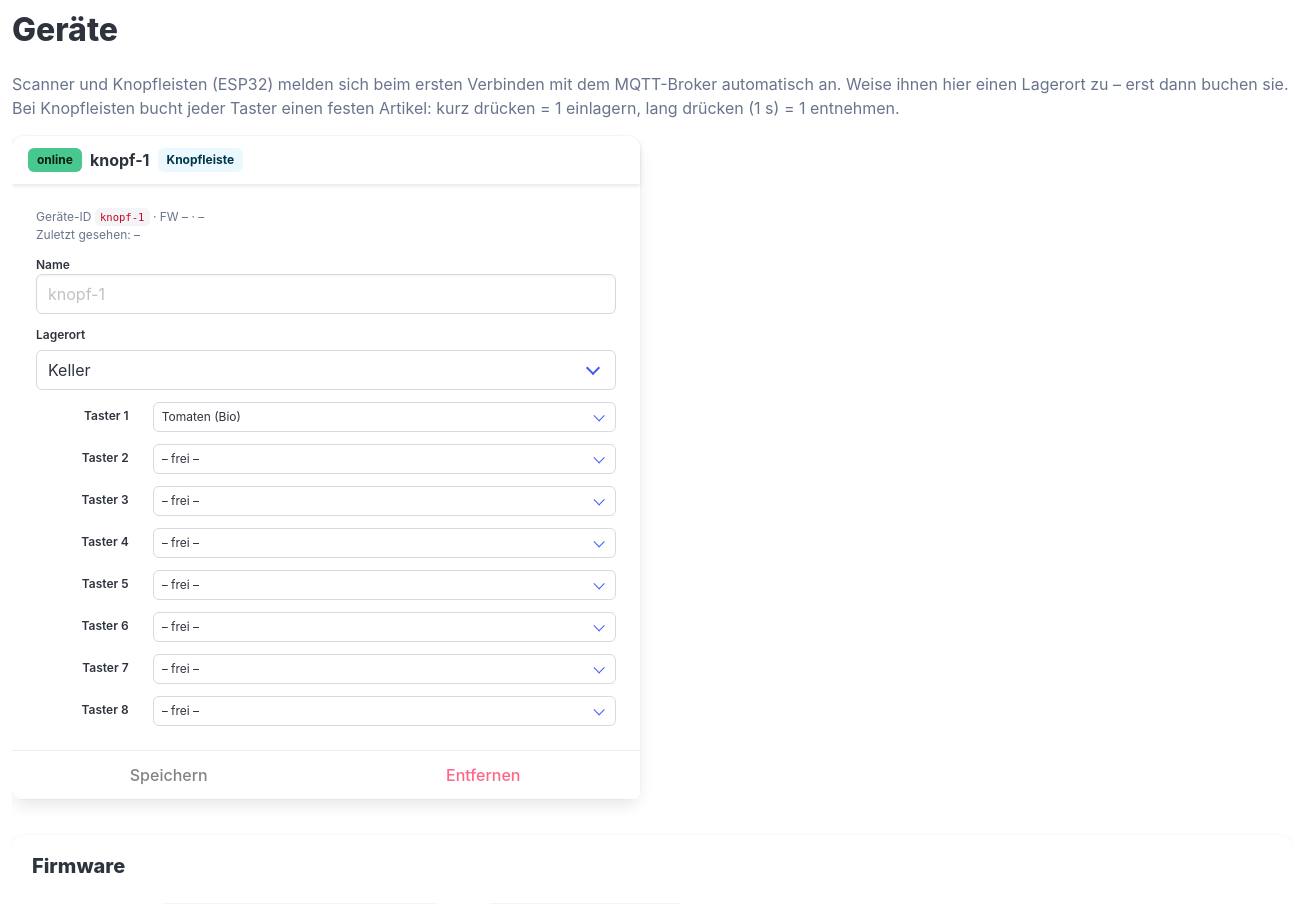
Test case: ScannersPage › assigns articles to the buttons of a button box
Expected: the text "Knopfleiste" is shown, [158, 148, 243, 172]
Expected: the dropdown labelled "Taster 8" shows "– frei –", [153, 696, 616, 726]
Select "Zucchini" in the dropdown labelled "Taster 1" at (384, 417), box [153, 402, 616, 432]
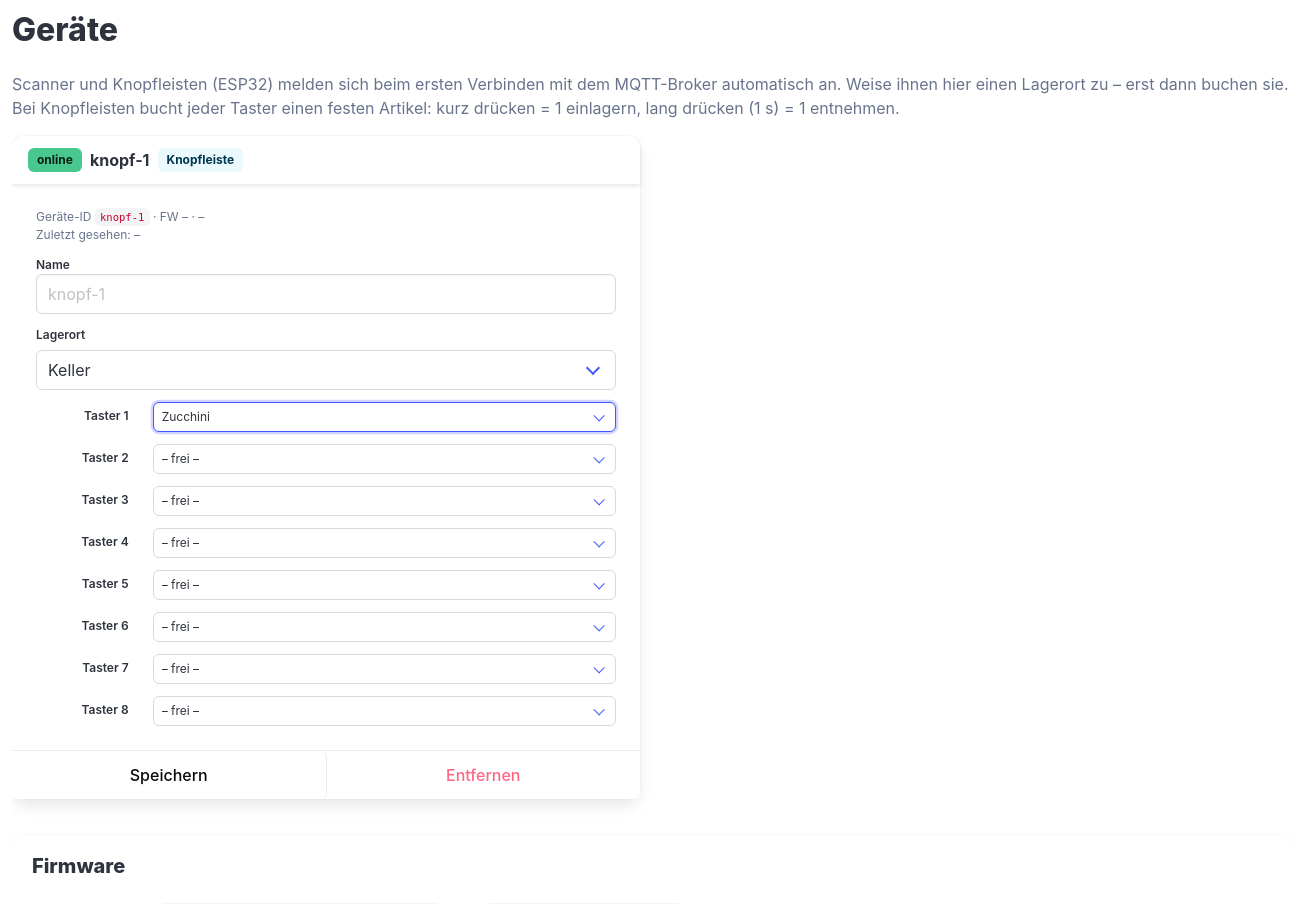
Result: the button "Speichern" is enabled at [12, 751, 326, 799]
Select "Tomaten (Bio)" in the dropdown labelled "Taster 1" at (384, 417), box [153, 402, 616, 432]
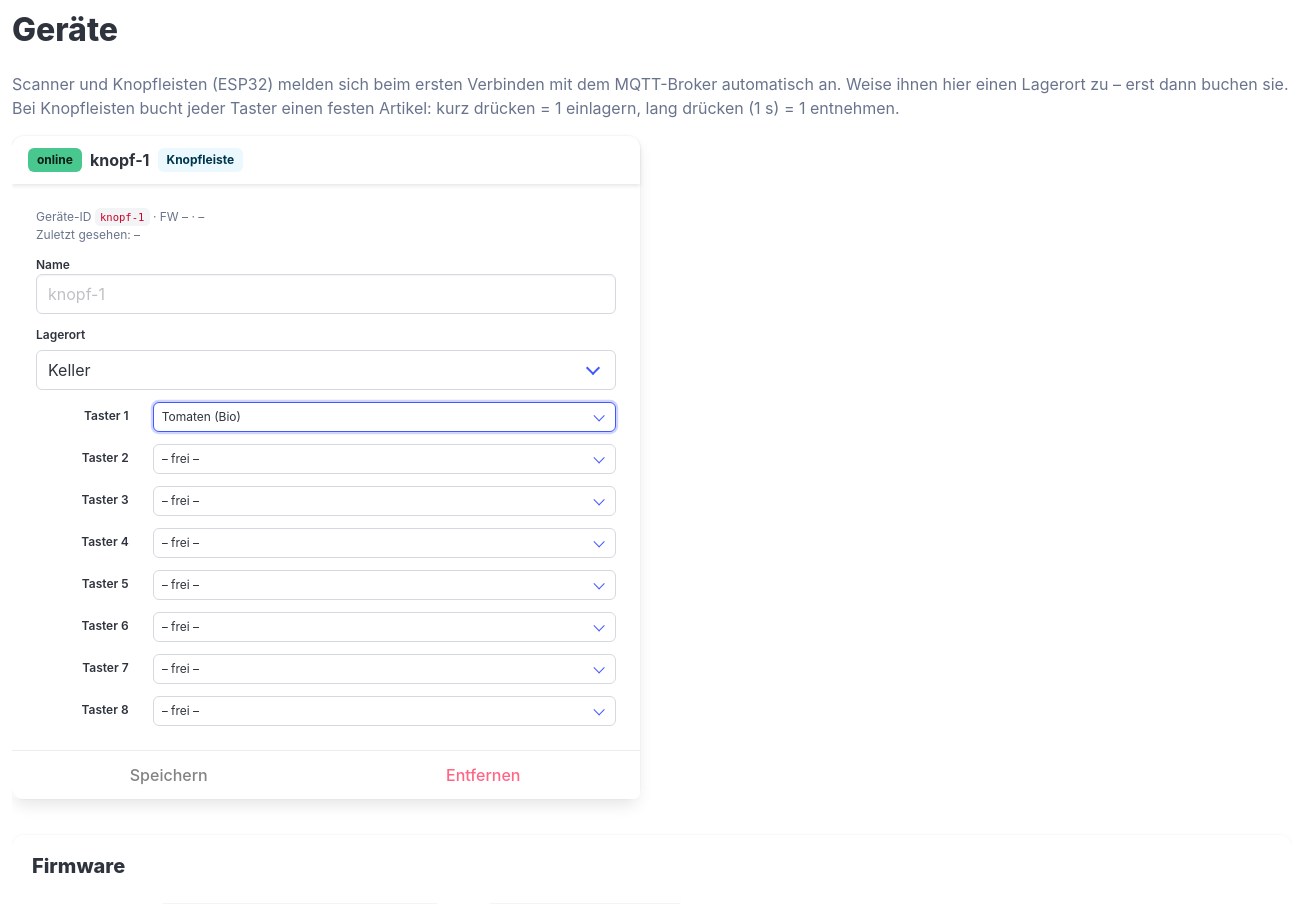
Result: the button "Speichern" is disabled at [12, 751, 326, 799]
Select "Zucchini" in the dropdown labelled "Taster 3" at (384, 501), box [153, 486, 616, 516]
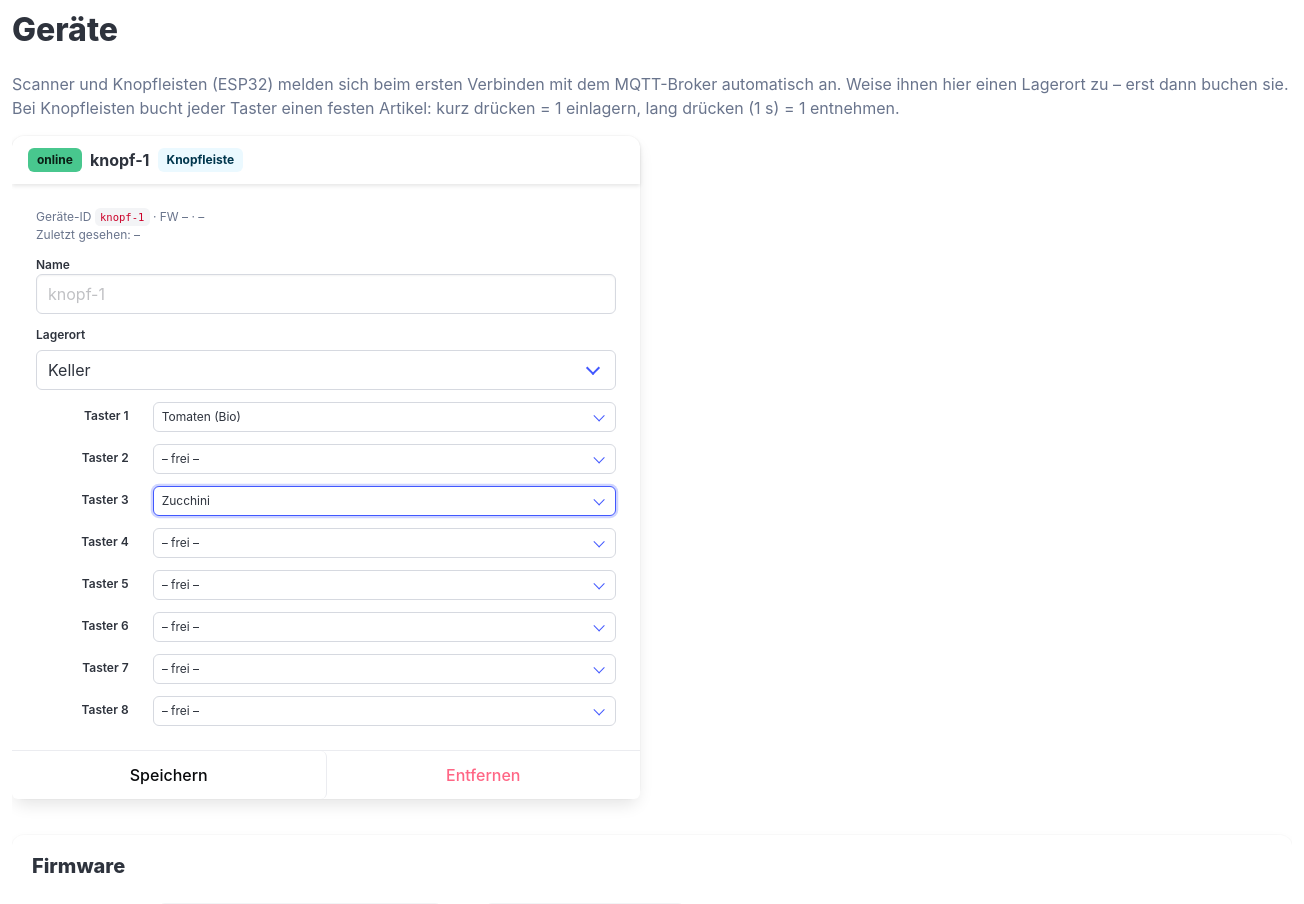
Select "– frei –" in the dropdown labelled "Taster 1" at (384, 417), box [153, 402, 616, 432]
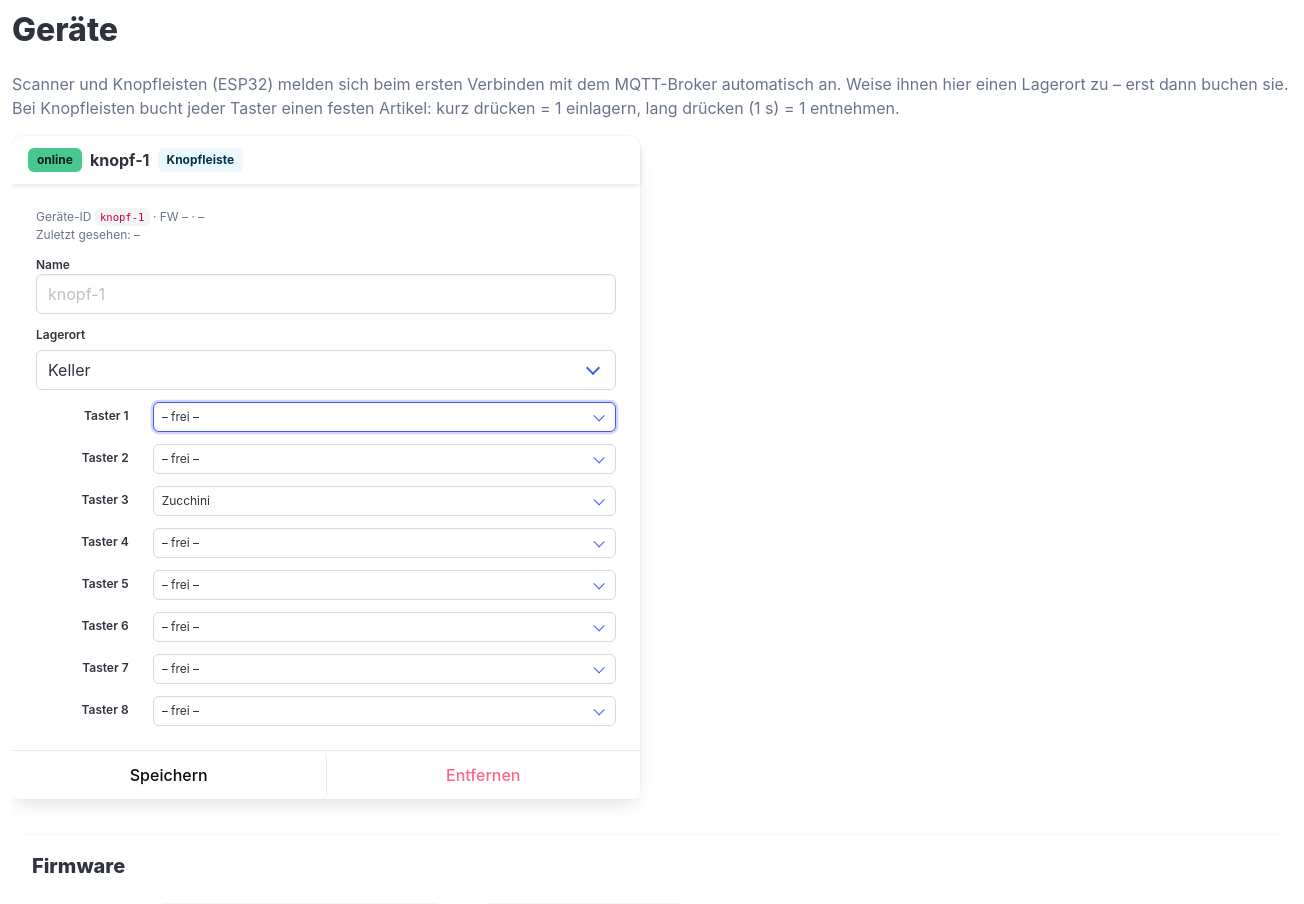
Click the button "Speichern" at (169, 775), box [12, 751, 326, 799]
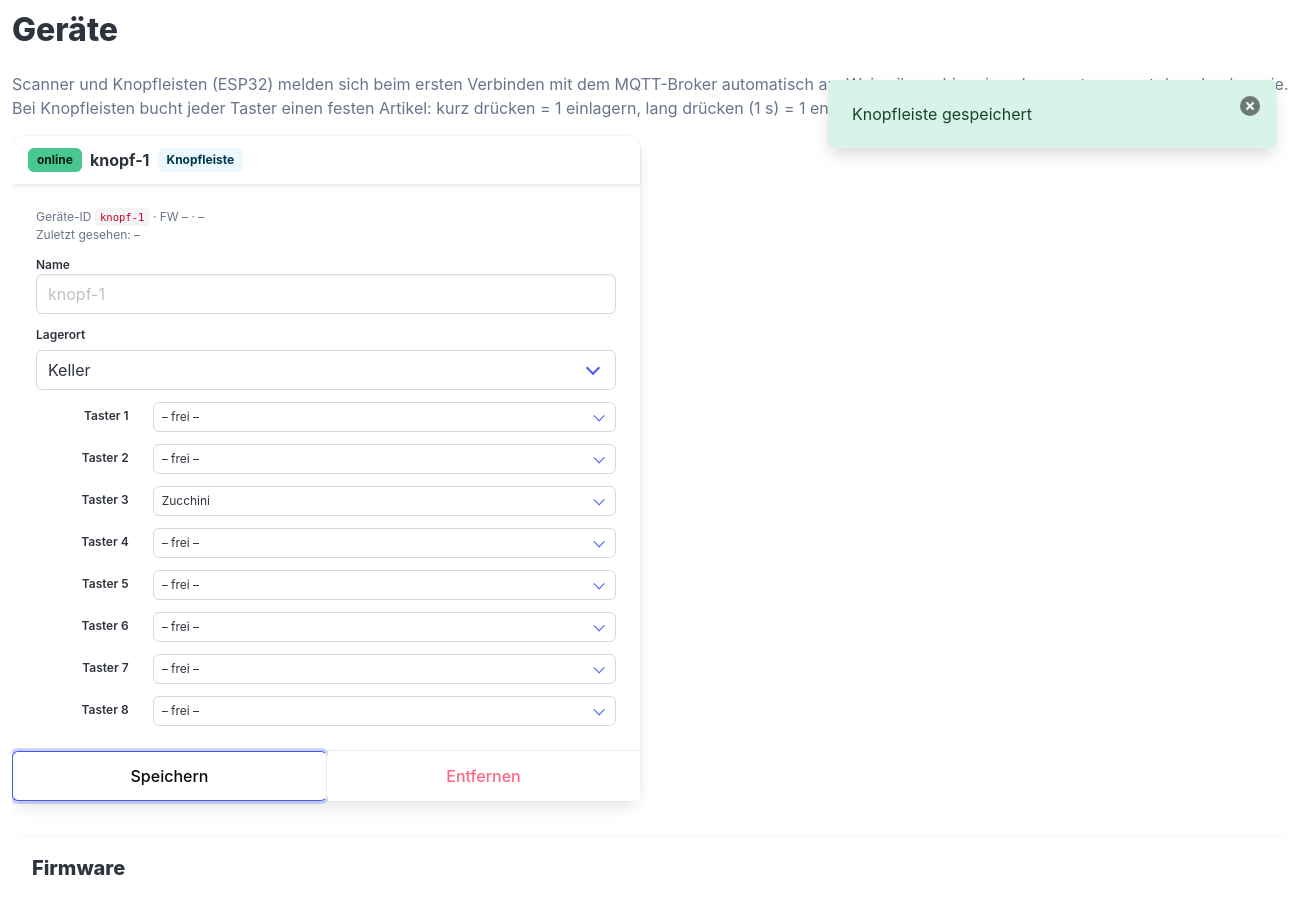
Result: the text "Knopfleiste gespeichert" is shown at [828, 80, 1276, 148]
